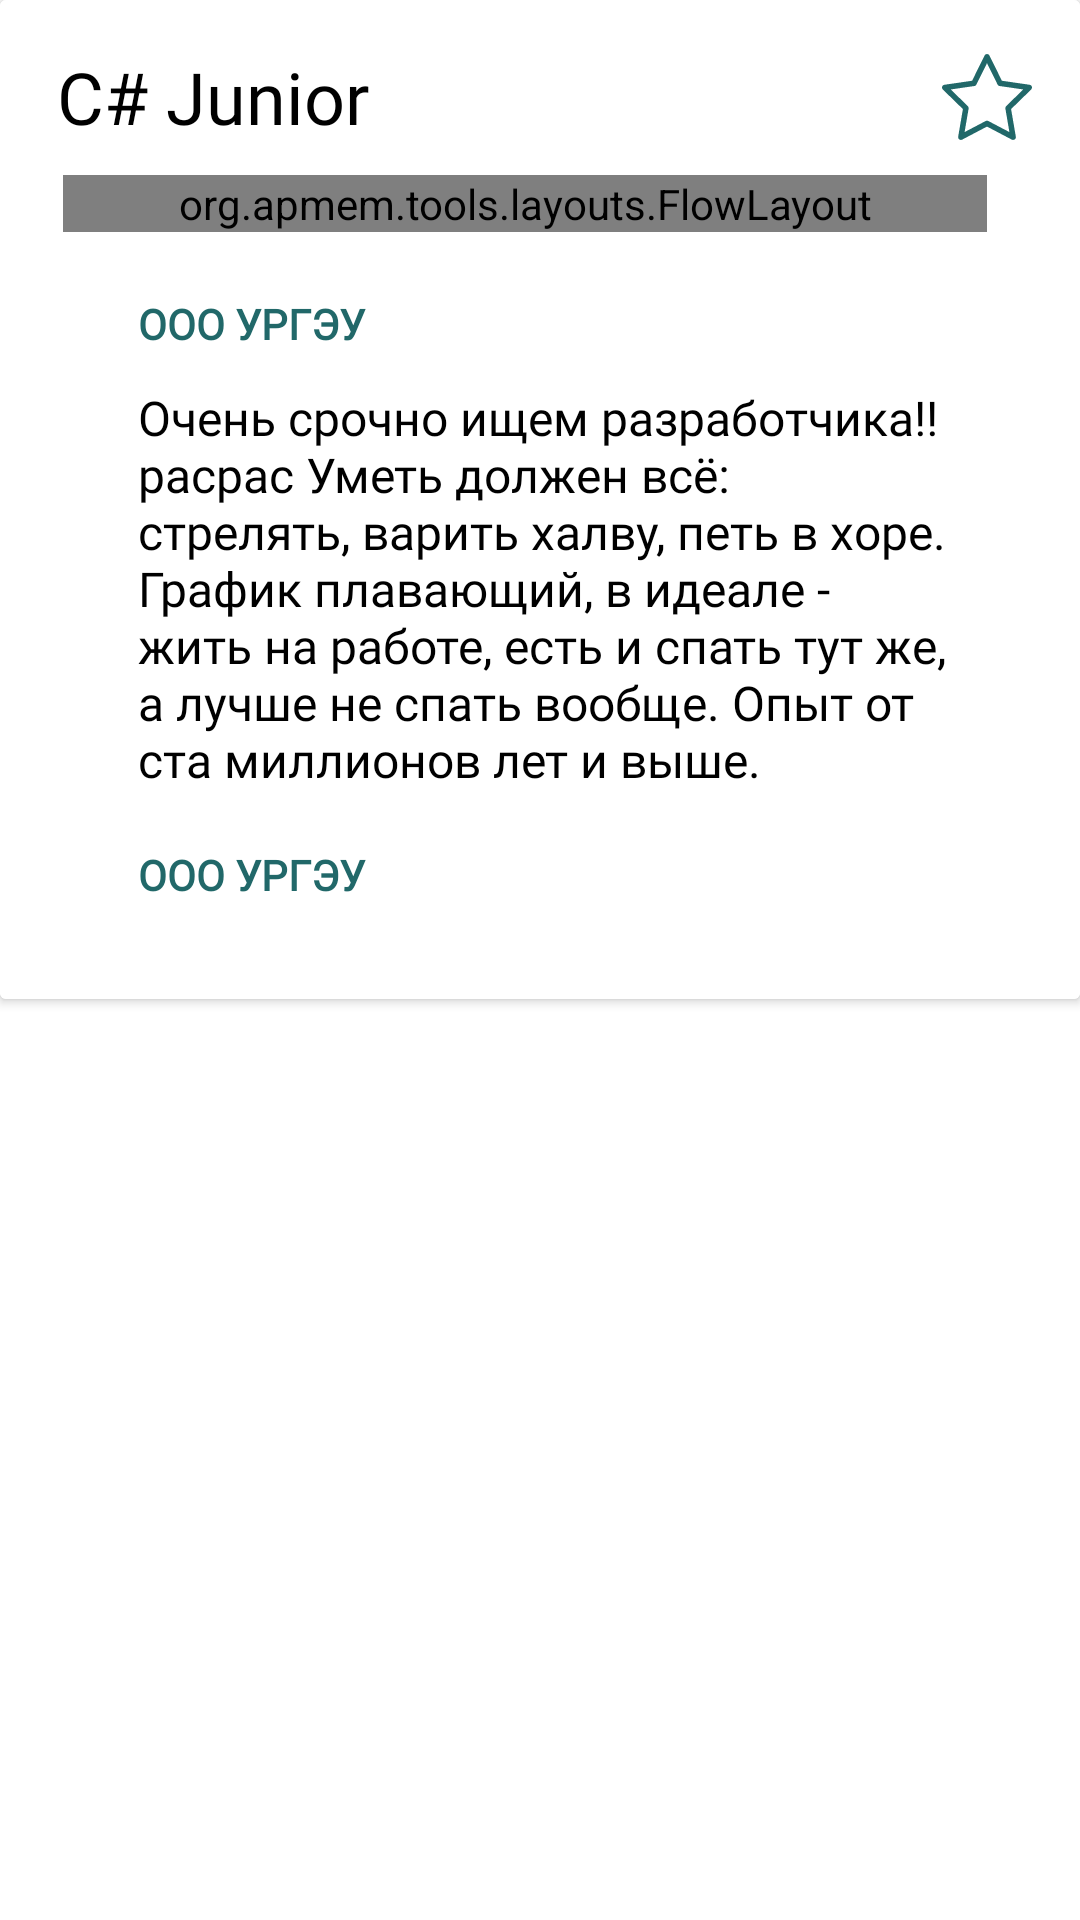

Named icons in this screenshot (1080×1920) and their centers, [x,y]:
hollow star: [987,97]
